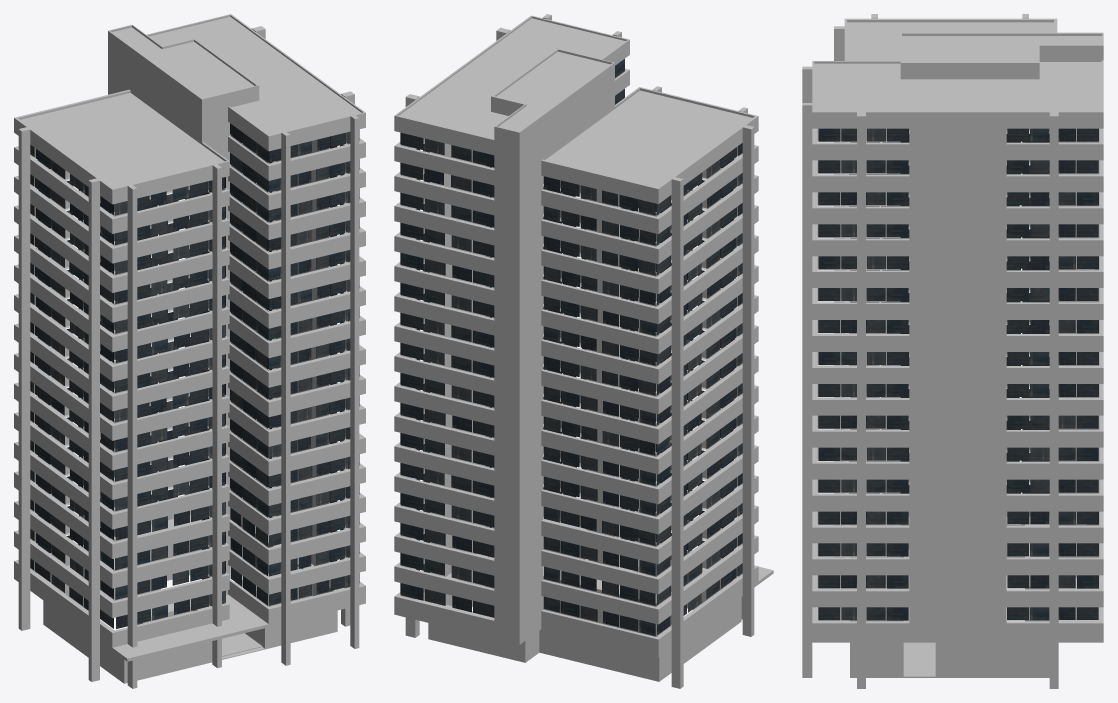
3 renders of one model, left to right at view 1: azimuth 30°, elevation 25°; view 2: azimuth 150°, elevation 25°; view 3: azimuth 270°, elevation 25°, orthographic. The views are drawn at different scales.
Parts seen in each view (by area): view 1: BC-003; view 2: BC-003; view 3: BC-003.
Boxes of the visible parts, left/top/right/bottom form: BC-003: left=14, top=14, right=365, bottom=688; BC-003: left=394, top=14, right=773, bottom=688; BC-003: left=802, top=14, right=1103, bottom=688.
Size of what is drawn, in the model's own units: 27.27 by 55.08 by 25.67.
